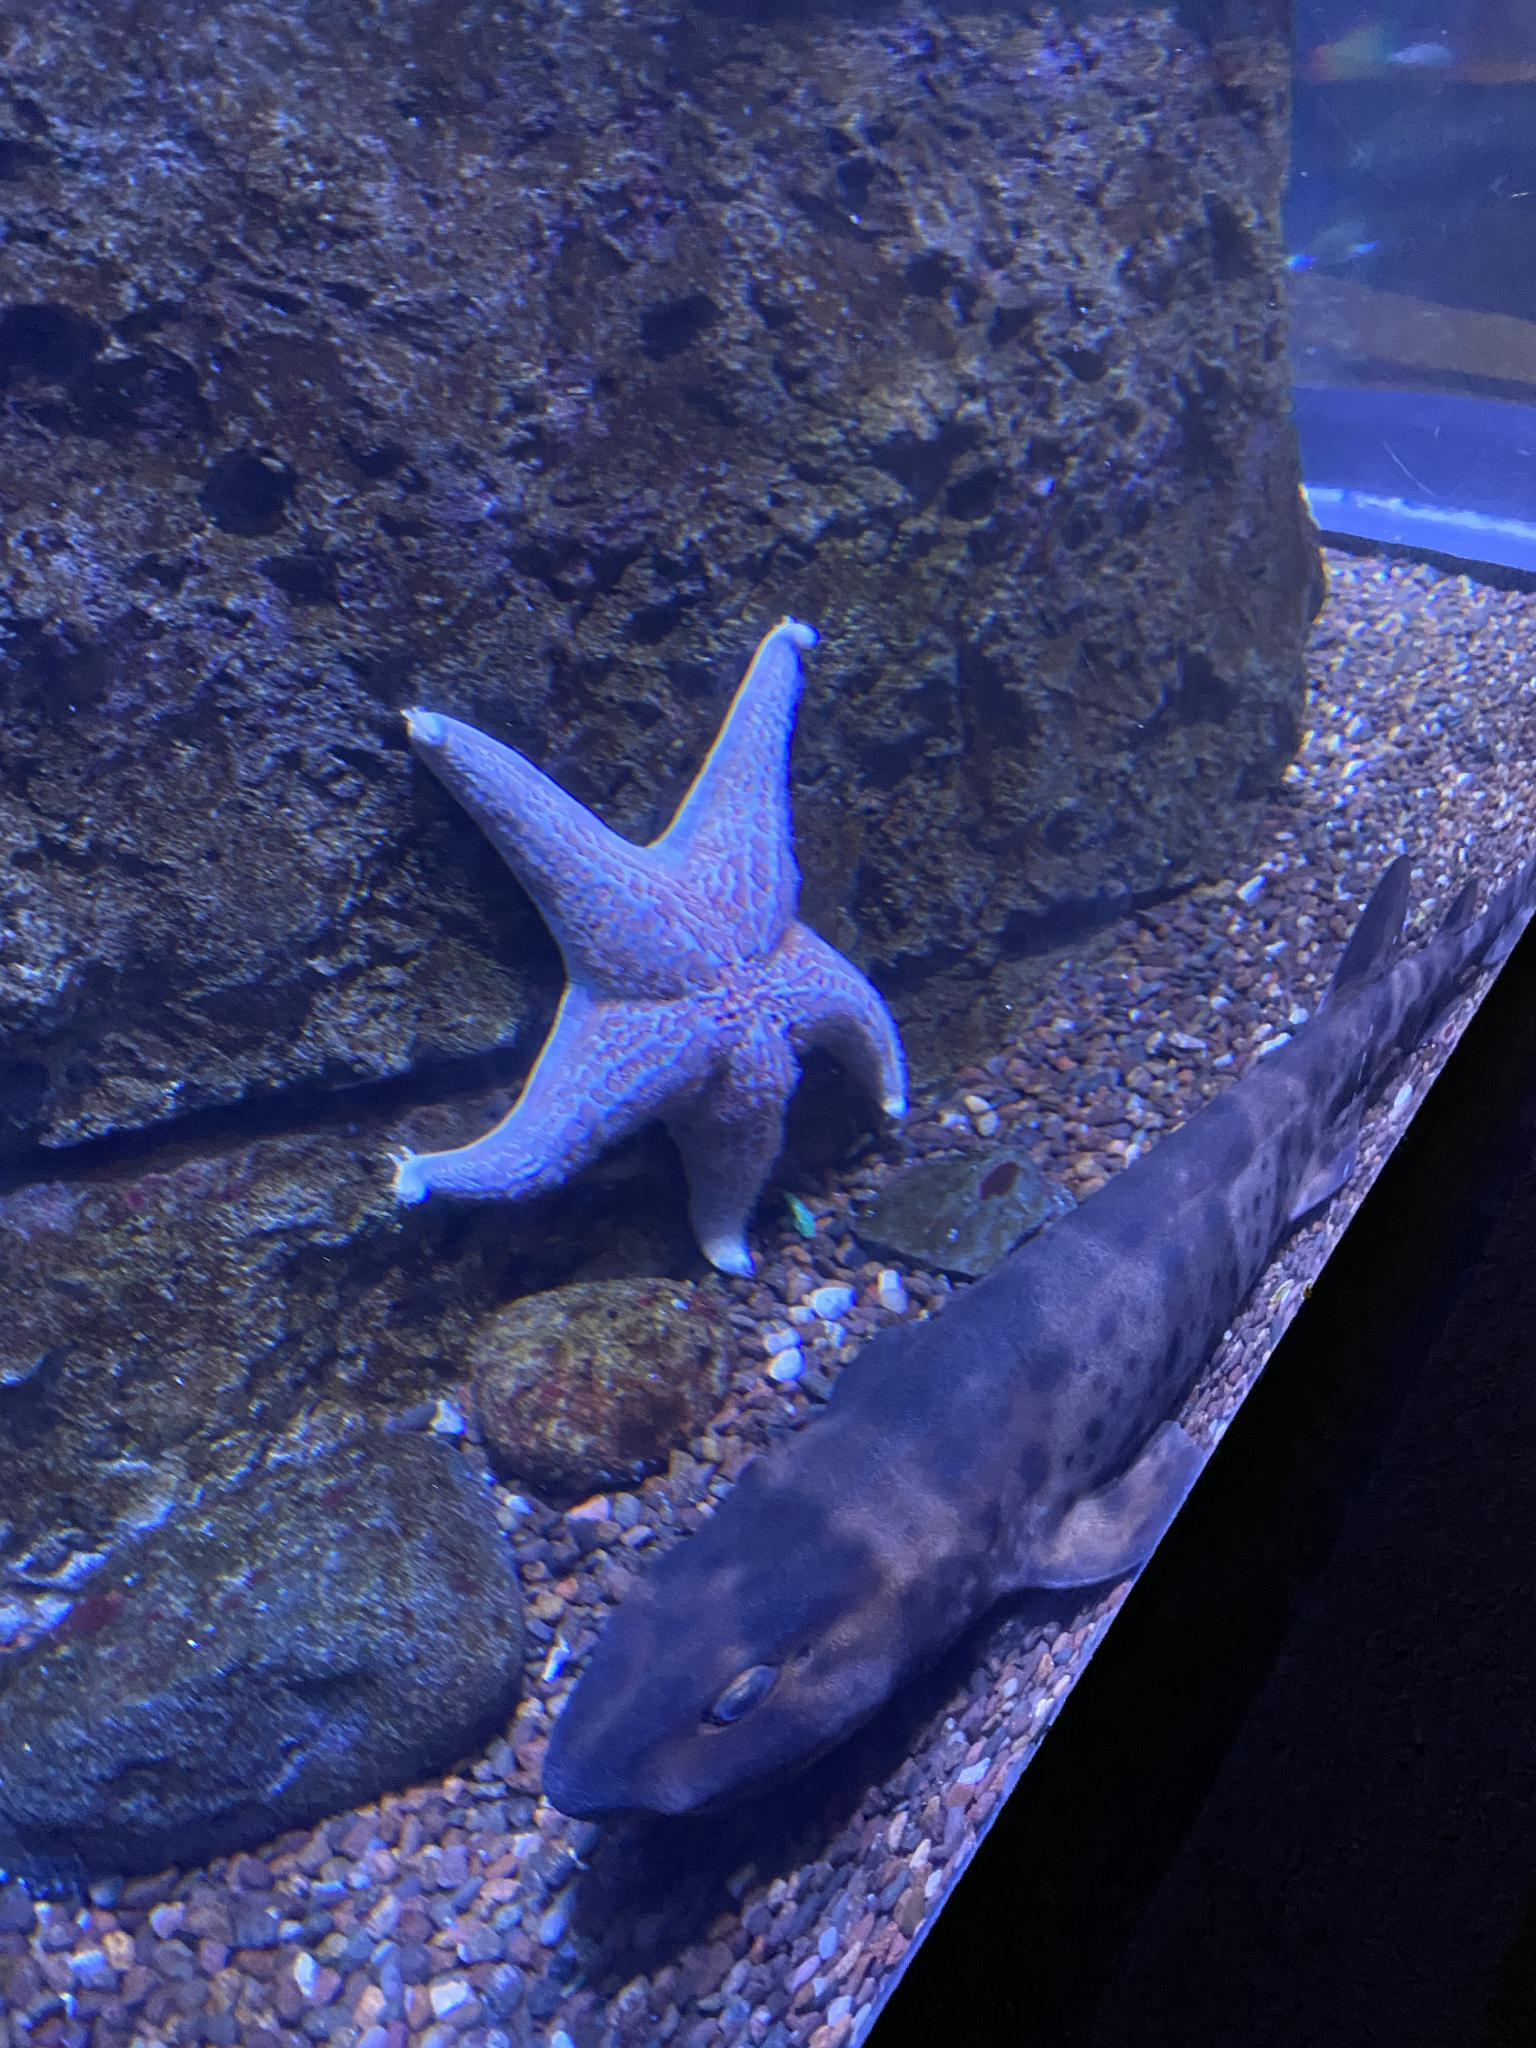shark: (549, 851, 1536, 1816)
starfish: (392, 618, 908, 1276)
